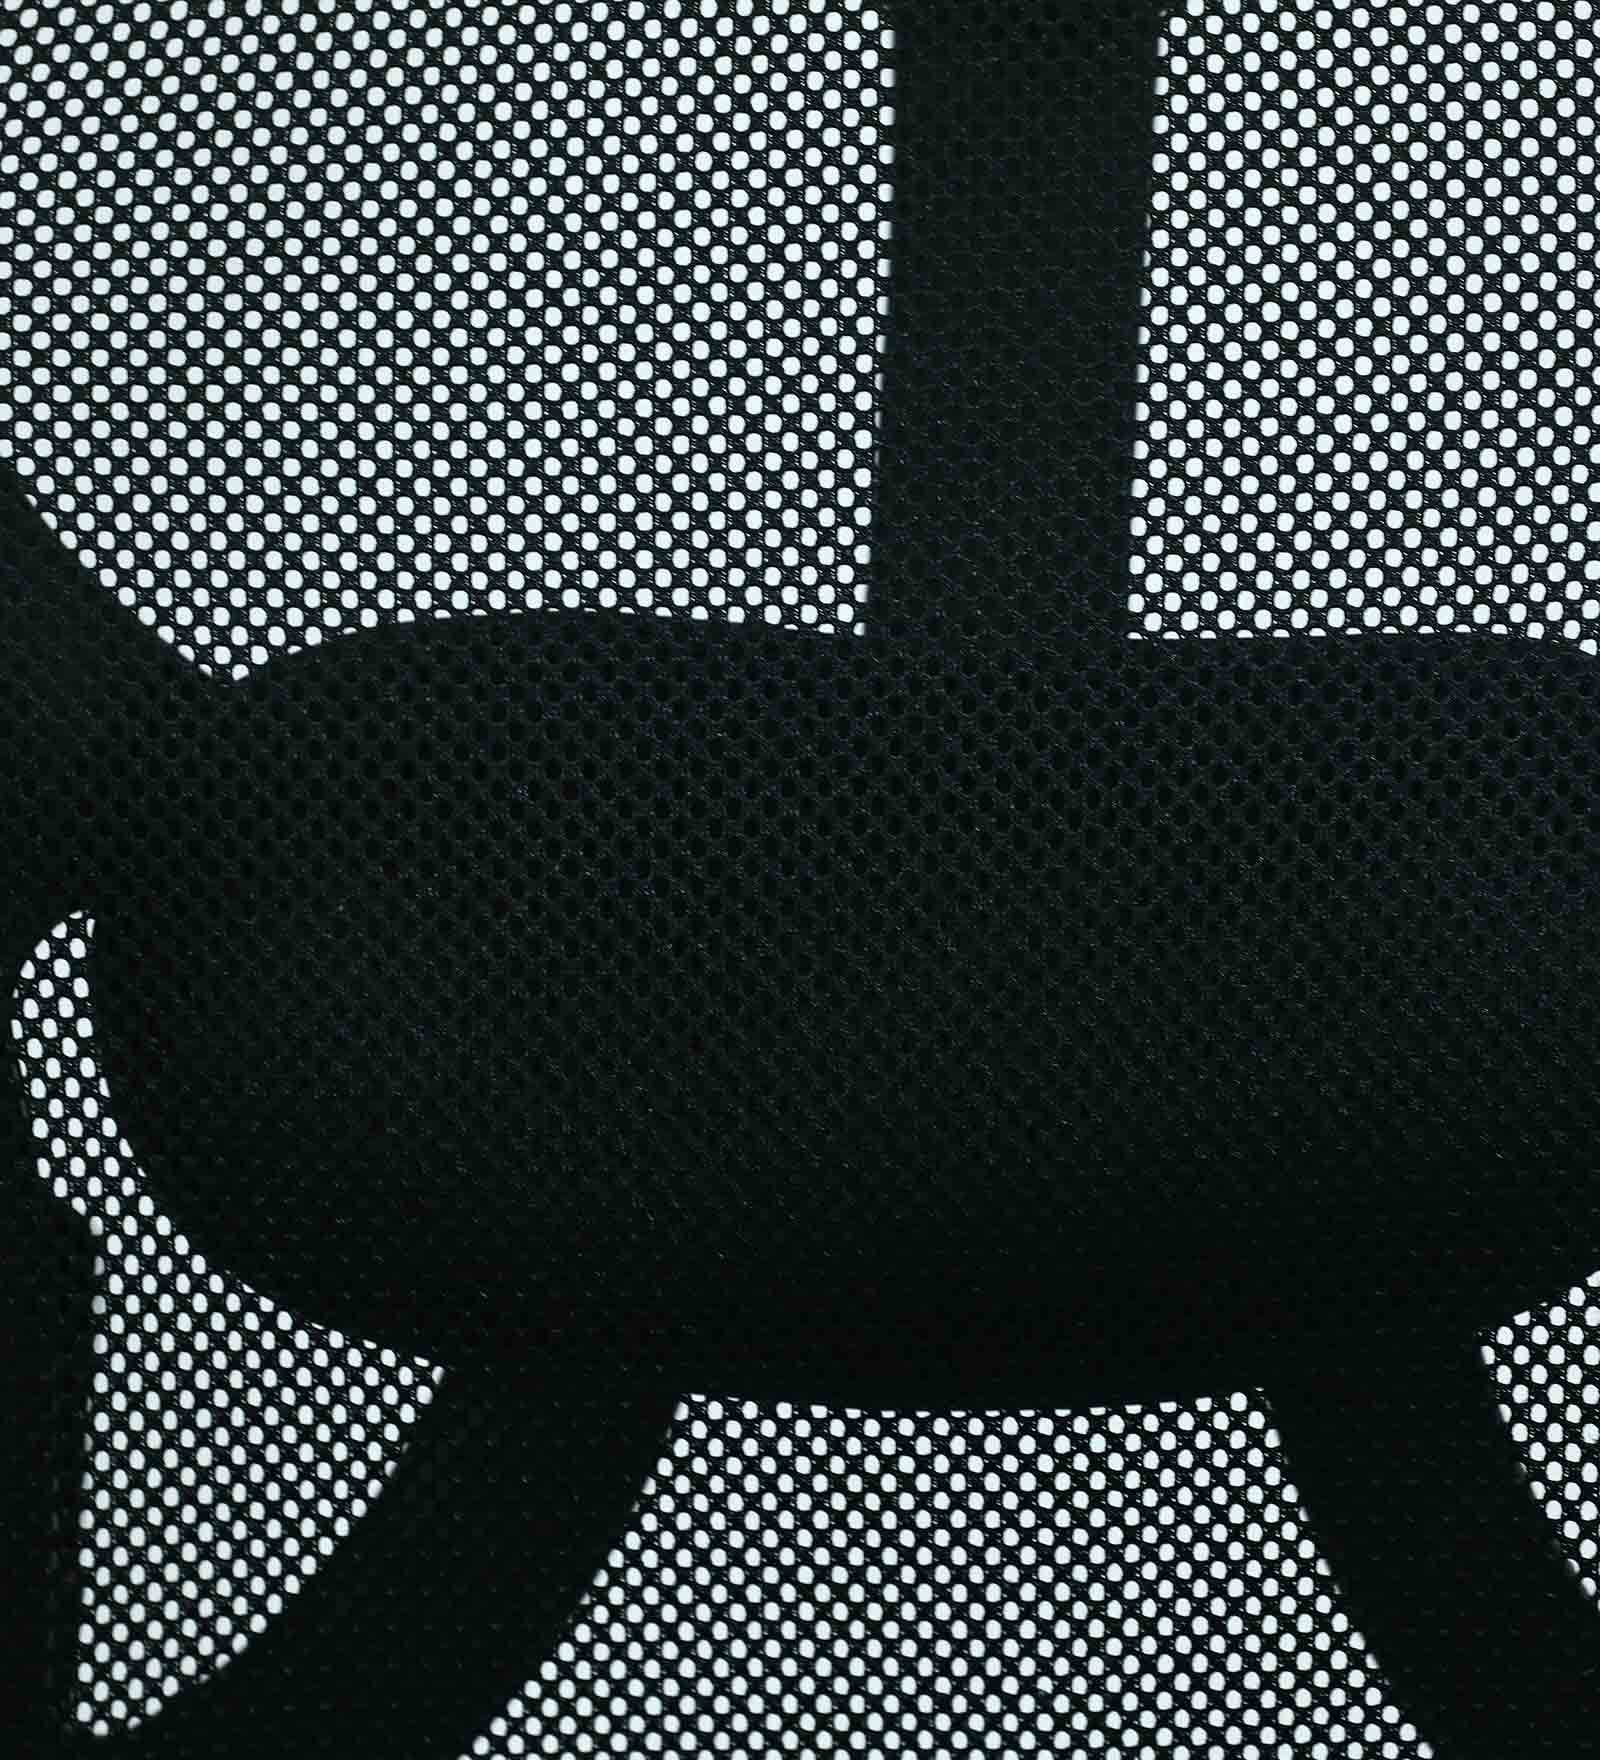Swivel High Back Ergonomic Chair with headrest In Black Colour By Furniease: (116, 163, 1582, 1706)
